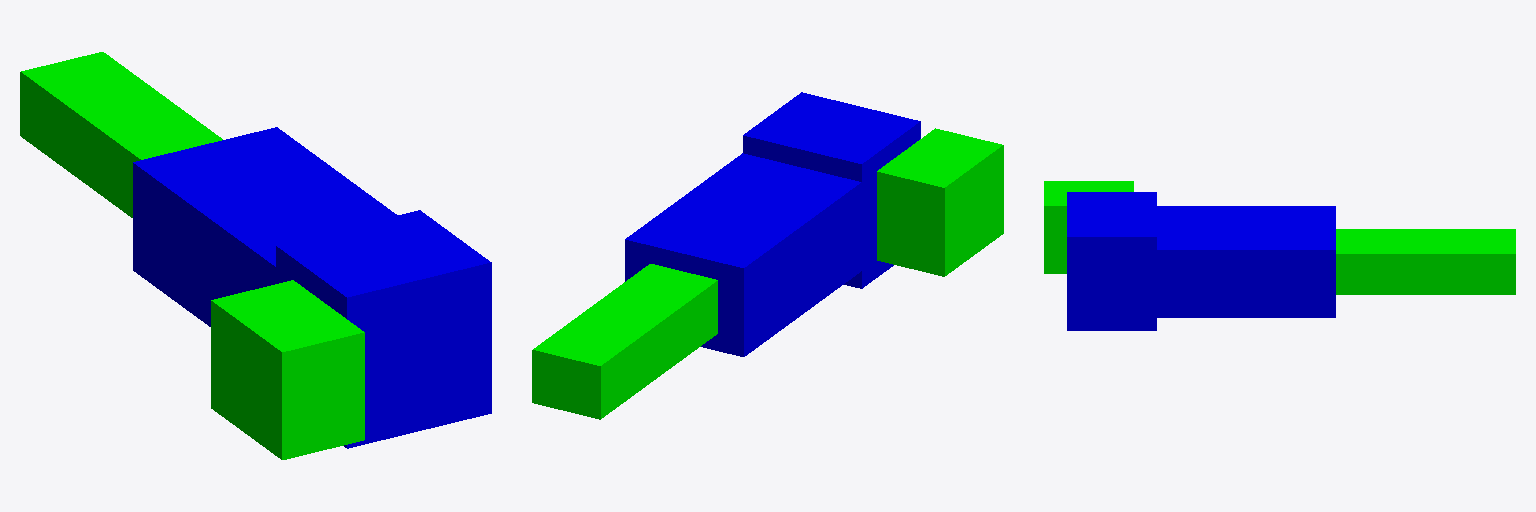
robot.urdf — robot:
<robot name = "robot">
    <link name="root">
        <inertial>
            <origin xyz="0.0 0.0 1.5" rpy="0 0 0"/>
            <mass value="1" />
            <inertia ixx="100" ixy="0" ixz="0" iyy="100" iyz="0" izz="100" />
        </inertial>
        <visual>
            <origin xyz="0.0 0.0 1.5" rpy="0 0 0"/>
            <geometry>
                <box size="0 0 0.0001" />
            </geometry>
            <material name="Green">
                <color rgba="0 1.0 0.0 1.0"/>
            </material>
        </visual>
        <collision>
            <origin xyz="0.0 0.0 1.5" rpy="0 0 0"/>
            <geometry>
                <box size="0 0 0.0001" />
            </geometry>
        </collision>
    </link>
    <joint name="root_000" type="revolute">
       <parent link="root"/>
       <child  link="000"/>
       <origin rpy="0 0 0" xyz="0.0 0.0 1.5" />
     <axis xyz="1 0 0"/>
       <limit effort="0.0" lower="-3.14159" upper="3.14159" velocity="0.0"/>
    </joint>
    <link name="000">
        <inertial>
            <origin xyz="0.0 0.15 0.0" rpy="0 0 0"/>
            <mass value="1" />
            <inertia ixx="100" ixy="0" ixz="0" iyy="100" iyz="0" izz="100" />
        </inertial>
        <visual>
            <origin xyz="0.0 0.15 0.0" rpy="0 0 0"/>
            <geometry>
                <box size="0.4 0.3 0.5" />
            </geometry>
            <material name="Green">
                <color rgba="0 1.0 0.0 1.0"/>
            </material>
        </visual>
        <collision>
            <origin xyz="0.0 0.15 0.0" rpy="0 0 0"/>
            <geometry>
                <box size="0.4 0.3 0.5" />
            </geometry>
        </collision>
    </link>
    <joint name="000_010" type="revolute">
       <parent link="000"/>
       <child  link="010"/>
       <origin rpy="0 0 0" xyz="0.0 0.3 -0.0" />
     <axis xyz="0 1 0"/>
       <limit effort="0.0" lower="-3.14159" upper="3.14159" velocity="0.0"/>
    </joint>
    <link name="010">
        <inertial>
            <origin xyz="0.0 0.15 -0.0" rpy="0 0 0"/>
            <mass value="1" />
            <inertia ixx="100" ixy="0" ixz="0" iyy="100" iyz="0" izz="100" />
        </inertial>
        <visual>
            <origin xyz="0.0 0.15 -0.0" rpy="0 0 0"/>
            <geometry>
                <box size="0.4 0.3 0.5" />
            </geometry>
            <material name="Green">
                <color rgba="0 1.0 0.0 1.0"/>
            </material>
        </visual>
        <collision>
            <origin xyz="0.0 0.15 -0.0" rpy="0 0 0"/>
            <geometry>
                <box size="0.4 0.3 0.5" />
            </geometry>
        </collision>
    </link>
    <joint name="010_010-100" type="revolute">
       <parent link="010"/>
       <child  link="010-100"/>
       <origin rpy="0 0 0" xyz="0.2 0.15 -0.0" />
     <axis xyz="1 0 0"/>
       <limit effort="0.0" lower="-3.14159" upper="3.14159" velocity="0.0"/>
    </joint>
    <link name="010-100">
        <inertial>
            <origin xyz="0.35 0.0 -0.0" rpy="0 0 0"/>
            <mass value="1" />
            <inertia ixx="100" ixy="0" ixz="0" iyy="100" iyz="0" izz="100" />
        </inertial>
        <visual>
            <origin xyz="0.35 0.0 -0.0" rpy="0 0 0"/>
            <geometry>
                <box size="0.7 0.6 0.7" />
            </geometry>
            <material name="Blue">
                <color rgba="0 0.0 1.0 1.0"/>
            </material>
        </visual>
        <collision>
            <origin xyz="0.35 0.0 -0.0" rpy="0 0 0"/>
            <geometry>
                <box size="0.7 0.6 0.7" />
            </geometry>
        </collision>
    </link>
    <joint name="010-100_010-100-200" type="revolute">
       <parent link="010-100"/>
       <child  link="010-100-200"/>
       <origin rpy="0 0 0" xyz="0.35 0.3 -0.0" />
     <axis xyz="0 1 0"/>
       <limit effort="0.0" lower="-3.14159" upper="3.14159" velocity="0.0"/>
    </joint>
    <link name="010-100-200">
        <inertial>
            <origin xyz="0.0 0.3 -0.0" rpy="0 0 0"/>
            <mass value="1" />
            <inertia ixx="100" ixy="0" ixz="0" iyy="100" iyz="0" izz="100" />
        </inertial>
        <visual>
            <origin xyz="0.0 0.3 -0.0" rpy="0 0 0"/>
            <geometry>
                <box size="0.7 0.6 0.5" />
            </geometry>
            <material name="Blue">
                <color rgba="0 0.0 1.0 1.0"/>
            </material>
        </visual>
        <collision>
            <origin xyz="0.0 0.3 -0.0" rpy="0 0 0"/>
            <geometry>
                <box size="0.7 0.6 0.5" />
            </geometry>
        </collision>
    </link>
    <joint name="010-100-200_010-100-210" type="revolute">
       <parent link="010-100-200"/>
       <child  link="010-100-210"/>
       <origin rpy="0 0 0" xyz="0.0 0.6 -0.0" />
     <axis xyz="0 1 0"/>
       <limit effort="0.0" lower="-3.14159" upper="3.14159" velocity="0.0"/>
    </joint>
    <link name="010-100-210">
        <inertial>
            <origin xyz="0.0 0.3 -0.0" rpy="0 0 0"/>
            <mass value="1" />
            <inertia ixx="100" ixy="0" ixz="0" iyy="100" iyz="0" izz="100" />
        </inertial>
        <visual>
            <origin xyz="0.0 0.3 -0.0" rpy="0 0 0"/>
            <geometry>
                <box size="0.7 0.6 0.5" />
            </geometry>
            <material name="Blue">
                <color rgba="0 0.0 1.0 1.0"/>
            </material>
        </visual>
        <collision>
            <origin xyz="0.0 0.3 -0.0" rpy="0 0 0"/>
            <geometry>
                <box size="0.7 0.6 0.5" />
            </geometry>
        </collision>
    </link>
    <joint name="010-100-210_010-100-210-300" type="revolute">
       <parent link="010-100-210"/>
       <child  link="010-100-210-300"/>
       <origin rpy="0 0 0" xyz="0.0 0.6 -0.0" />
     <axis xyz="0 1 0"/>
       <limit effort="0.0" lower="-3.14159" upper="3.14159" velocity="0.0"/>
    </joint>
    <link name="010-100-210-300">
        <inertial>
            <origin xyz="0.0 0.2 -0.0" rpy="0 0 0"/>
            <mass value="1" />
            <inertia ixx="100" ixy="0" ixz="0" iyy="100" iyz="0" izz="100" />
        </inertial>
        <visual>
            <origin xyz="0.0 0.2 -0.0" rpy="0 0 0"/>
            <geometry>
                <box size="0.4 0.4 0.3" />
            </geometry>
            <material name="Green">
                <color rgba="0 1.0 0.0 1.0"/>
            </material>
        </visual>
        <collision>
            <origin xyz="0.0 0.2 -0.0" rpy="0 0 0"/>
            <geometry>
                <box size="0.4 0.4 0.3" />
            </geometry>
        </collision>
    </link>
    <joint name="010-100-210-300_010-100-210-310" type="revolute">
       <parent link="010-100-210-300"/>
       <child  link="010-100-210-310"/>
       <origin rpy="0 0 0" xyz="0.0 0.4 -0.0" />
     <axis xyz="0 1 0"/>
       <limit effort="0.0" lower="-3.14159" upper="3.14159" velocity="0.0"/>
    </joint>
    <link name="010-100-210-310">
        <inertial>
            <origin xyz="0.0 0.2 -0.0" rpy="0 0 0"/>
            <mass value="1" />
            <inertia ixx="100" ixy="0" ixz="0" iyy="100" iyz="0" izz="100" />
        </inertial>
        <visual>
            <origin xyz="0.0 0.2 -0.0" rpy="0 0 0"/>
            <geometry>
                <box size="0.4 0.4 0.3" />
            </geometry>
            <material name="Green">
                <color rgba="0 1.0 0.0 1.0"/>
            </material>
        </visual>
        <collision>
            <origin xyz="0.0 0.2 -0.0" rpy="0 0 0"/>
            <geometry>
                <box size="0.4 0.4 0.3" />
            </geometry>
        </collision>
    </link>
    <joint name="010-100-210-310_010-100-210-320" type="revolute">
       <parent link="010-100-210-310"/>
       <child  link="010-100-210-320"/>
       <origin rpy="0 0 0" xyz="0.0 0.4 -0.0" />
     <axis xyz="0 1 0"/>
       <limit effort="0.0" lower="-3.14159" upper="3.14159" velocity="0.0"/>
    </joint>
    <link name="010-100-210-320">
        <inertial>
            <origin xyz="0.0 0.2 -0.0" rpy="0 0 0"/>
            <mass value="1" />
            <inertia ixx="100" ixy="0" ixz="0" iyy="100" iyz="0" izz="100" />
        </inertial>
        <visual>
            <origin xyz="0.0 0.2 -0.0" rpy="0 0 0"/>
            <geometry>
                <box size="0.4 0.4 0.3" />
            </geometry>
            <material name="Green">
                <color rgba="0 1.0 0.0 1.0"/>
            </material>
        </visual>
        <collision>
            <origin xyz="0.0 0.2 -0.0" rpy="0 0 0"/>
            <geometry>
                <box size="0.4 0.4 0.3" />
            </geometry>
        </collision>
    </link>
</robot>

--- Render facts (derived) ---
The picture shows the robot from 3 angles, left to right: view 1: azimuth 30°, elevation 25°; view 2: azimuth 150°, elevation 25°; view 3: azimuth 270°, elevation 25°; orthographic projection.
Model robot with 9 links and 8 joints (8 revolute), rooted at root, posed all joints at 0.
Links seen in each view (by area): view 1: [phone redacted] (×5), 010-100, 000, 010; view 2: [phone redacted] (×5), 010-100, 010, 000; view 3: [phone redacted] (×5), 010-100, 000.
Boxes of the visible links, bbox=[...] form: [phone redacted] (×5): bbox=[20, 52, 397, 326]; 010-100: bbox=[276, 210, 491, 448]; 000: bbox=[247, 306, 364, 459]; 010: bbox=[211, 280, 327, 433]; [phone redacted] (×5): bbox=[532, 153, 861, 419]; 010-100: bbox=[743, 92, 920, 288]; 010: bbox=[877, 150, 973, 276]; 000: bbox=[907, 128, 1003, 254]; [phone redacted] (×5): bbox=[1157, 206, 1515, 317]; 010-100: bbox=[1067, 192, 1156, 330]; 000: bbox=[1044, 181, 1088, 273].
Bounding box of the posed robot: 1.1 × 3.15 × 0.7 m (x, y, z).
Geometry: primitives only (box / cylinder / sphere), no mesh files.
